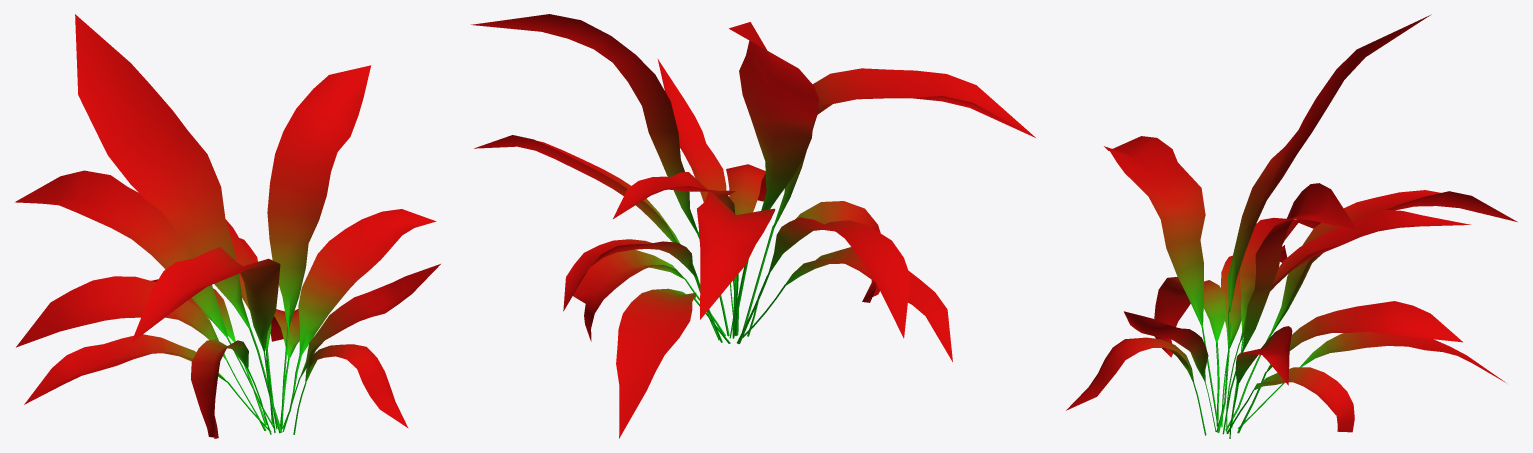
File: Cast - Iron Plant_LOD0_Var2_shdmr.fbx
3 views of the same model, side by side, from view 1: azimuth 30°, elevation 25°; view 2: azimuth 150°, elevation 25°; view 3: azimuth 270°, elevation 25° (orthographic). The views are drawn at different scales.
Parts seen in each view (by area): view 1: _ca09_Var2_LOD0; view 2: _ca09_Var2_LOD0; view 3: _ca09_Var2_LOD0.
Part boxes in pixels (box(x1,y1,x2,y2)): _ca09_Var2_LOD0: box(15, 14, 440, 438); _ca09_Var2_LOD0: box(471, 14, 1035, 438); _ca09_Var2_LOD0: box(1066, 14, 1517, 438).
Size of the model in its own units: 61.45 by 52.32 by 57.84.
